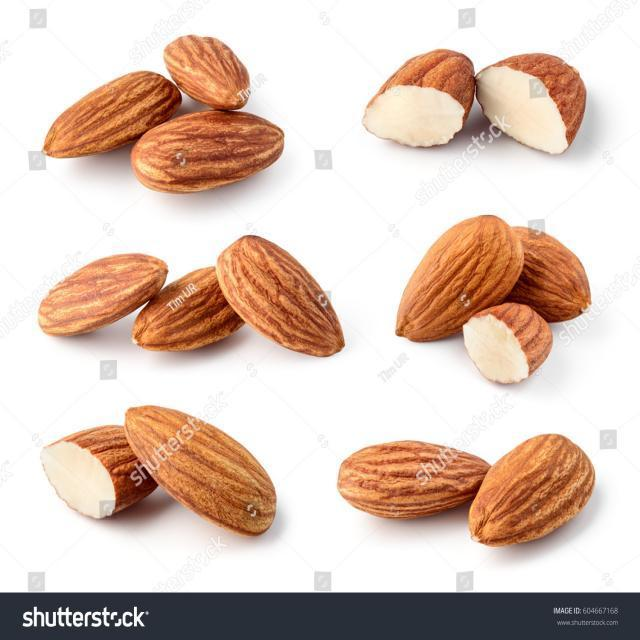almond: (114, 398, 279, 542), (392, 208, 525, 340), (213, 234, 342, 359), (467, 434, 597, 549), (40, 65, 182, 160), (128, 110, 285, 188), (340, 437, 488, 517), (35, 250, 168, 338), (133, 265, 237, 350), (513, 225, 592, 323), (165, 28, 248, 112)
